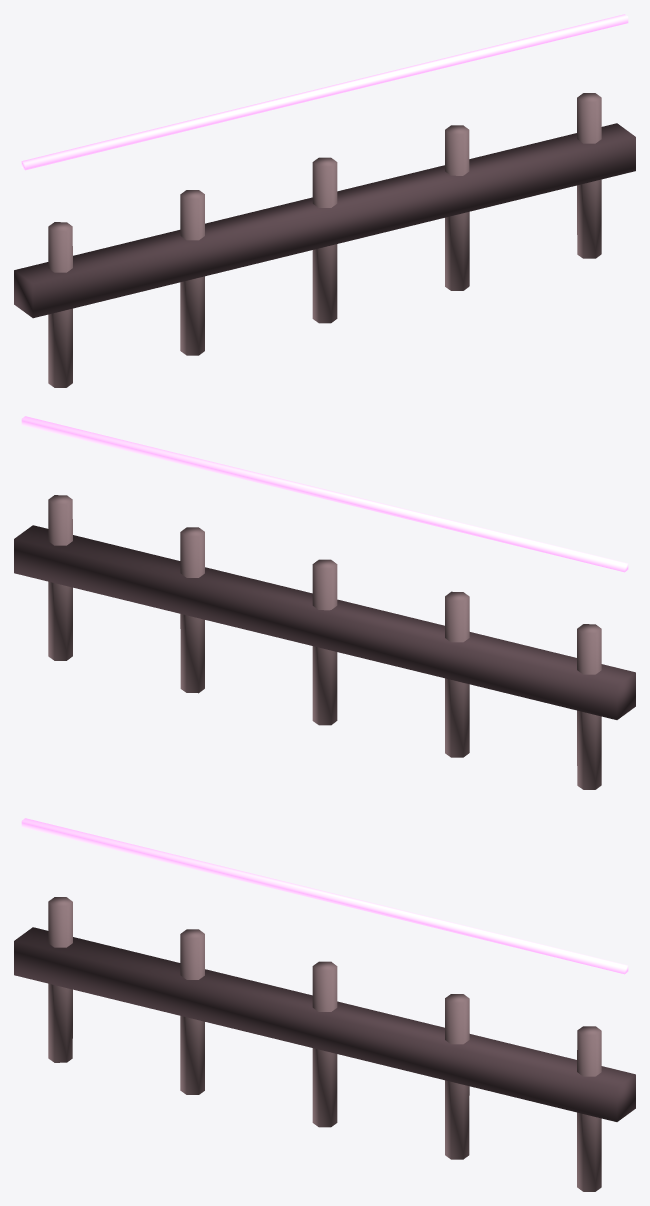
Rendered from SM_Neroberg_Rail_LOD3.fbx.
3 views of the same model, one above another, from view 1: azimuth 30°, elevation 25°; view 2: azimuth 150°, elevation 25°; view 3: azimuth 330°, elevation 25° (orthographic).
Parts seen in each view (by area): view 1: SM_Neroberg_Rail_LOD3; view 2: SM_Neroberg_Rail_LOD3; view 3: SM_Neroberg_Rail_LOD3.
Part boxes in pixels (x1,y1,x2,y2): SM_Neroberg_Rail_LOD3: (14, 14, 635, 387); SM_Neroberg_Rail_LOD3: (14, 416, 635, 789); SM_Neroberg_Rail_LOD3: (14, 818, 635, 1191).
Size of the model in its own units: 3.19 by 1.16 by 0.1734.
